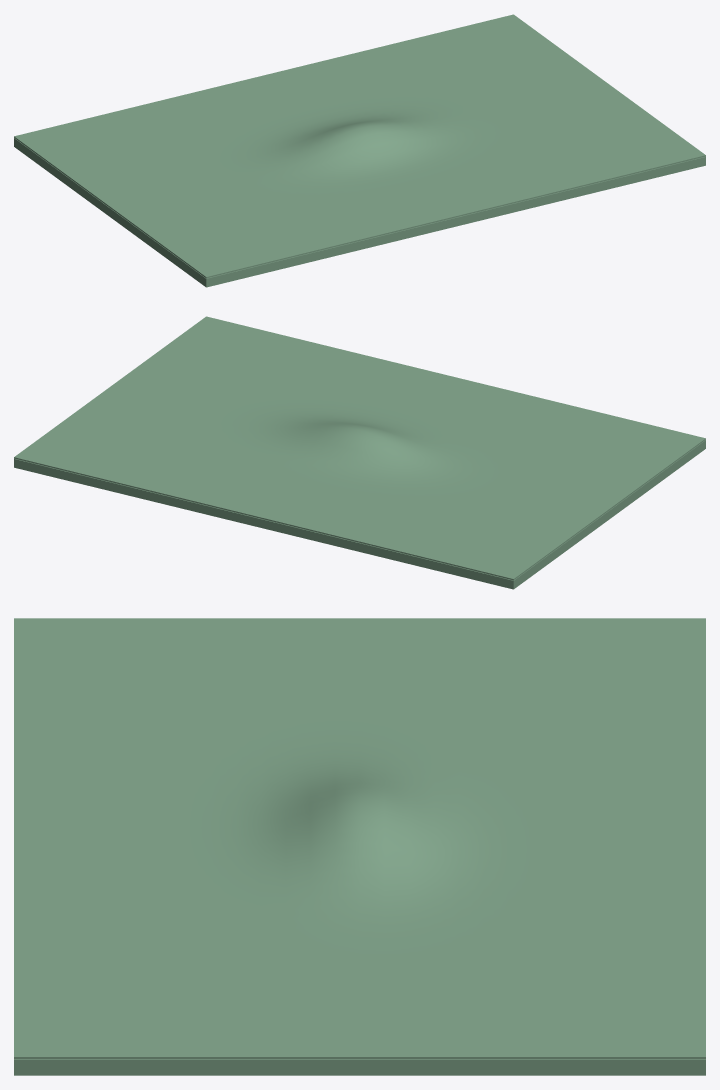
The model's file is film-speck.glb.
The picture shows the model from 3 angles, top to bottom: view 1: azimuth 30°, elevation 25°; view 2: azimuth 150°, elevation 25°; view 3: azimuth 270°, elevation 25°; orthographic projection. The views are drawn at different scales.
Visible parts, largest first — view 1: Raised film skin, Panel; view 2: Raised film skin, Panel; view 3: Raised film skin, Panel.
Boxes of the visible parts, box(x1,y1,x2,y2) form: Raised film skin: box(14, 14, 705, 278); Panel: box(14, 138, 705, 287); Raised film skin: box(14, 316, 705, 580); Panel: box(14, 440, 705, 589); Raised film skin: box(14, 618, 705, 1059); Panel: box(14, 1059, 705, 1075).
Bounding box in the file's own units: 6 × 0.38 × 4.
